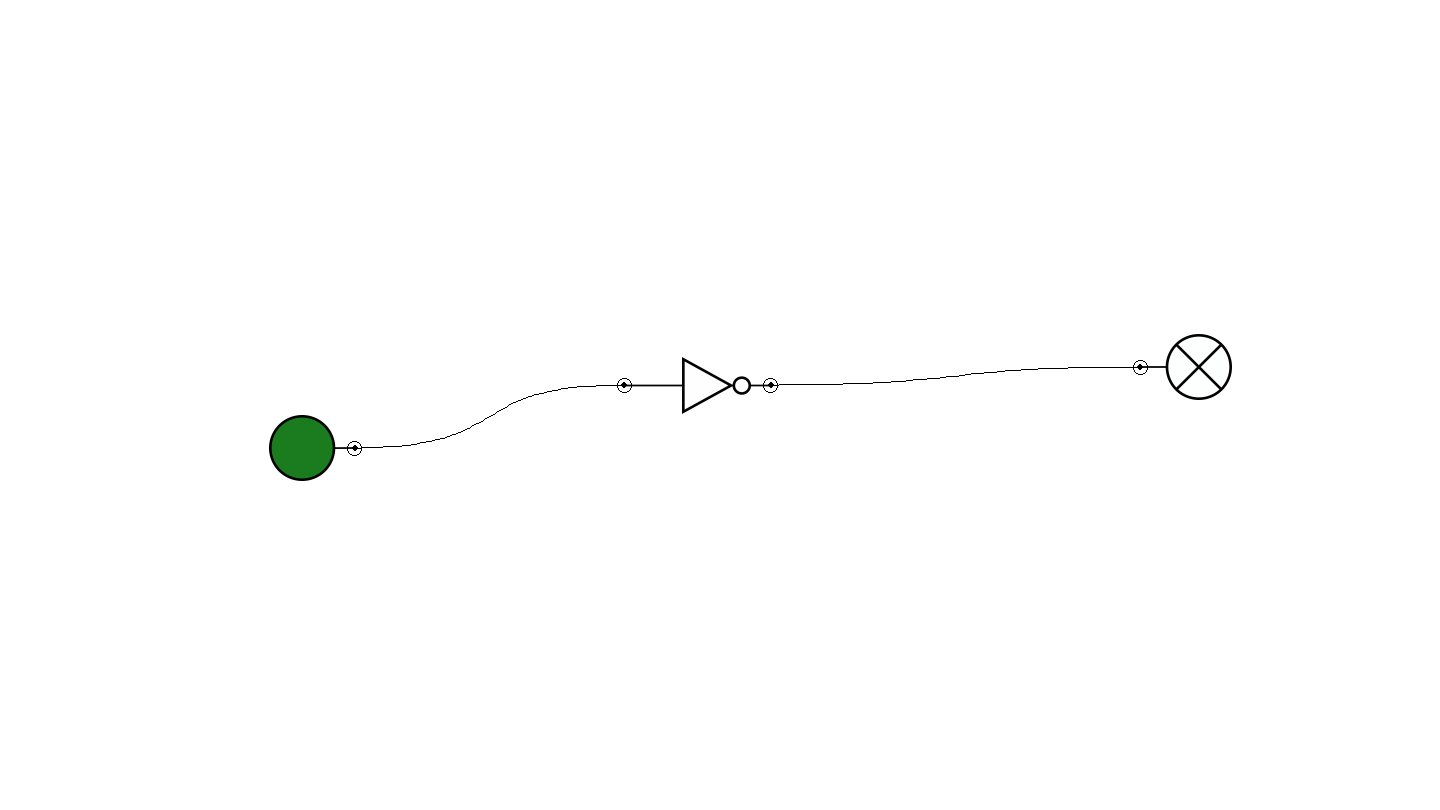bulb: (1133, 334, 1232, 400)
not: (617, 357, 778, 414)
switch_True: (269, 415, 362, 481)
